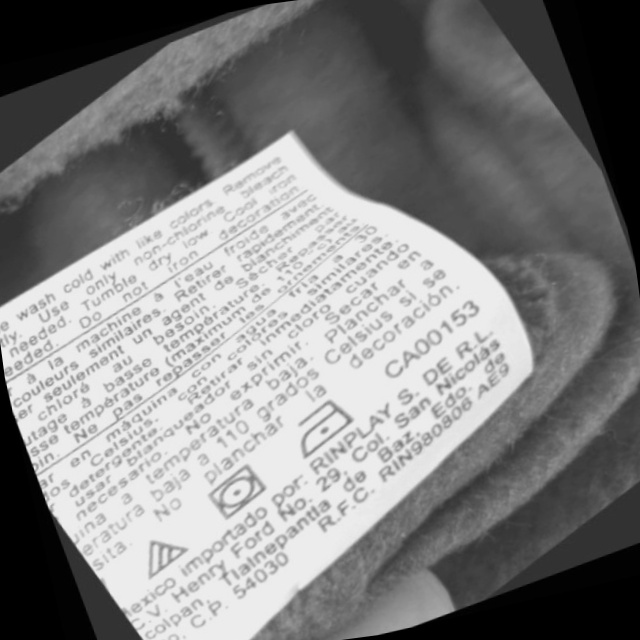iron_low: (280, 388, 370, 466)
non_chlorine_bleach: (127, 520, 197, 583)
tumble_dry_low: (193, 458, 276, 526)
